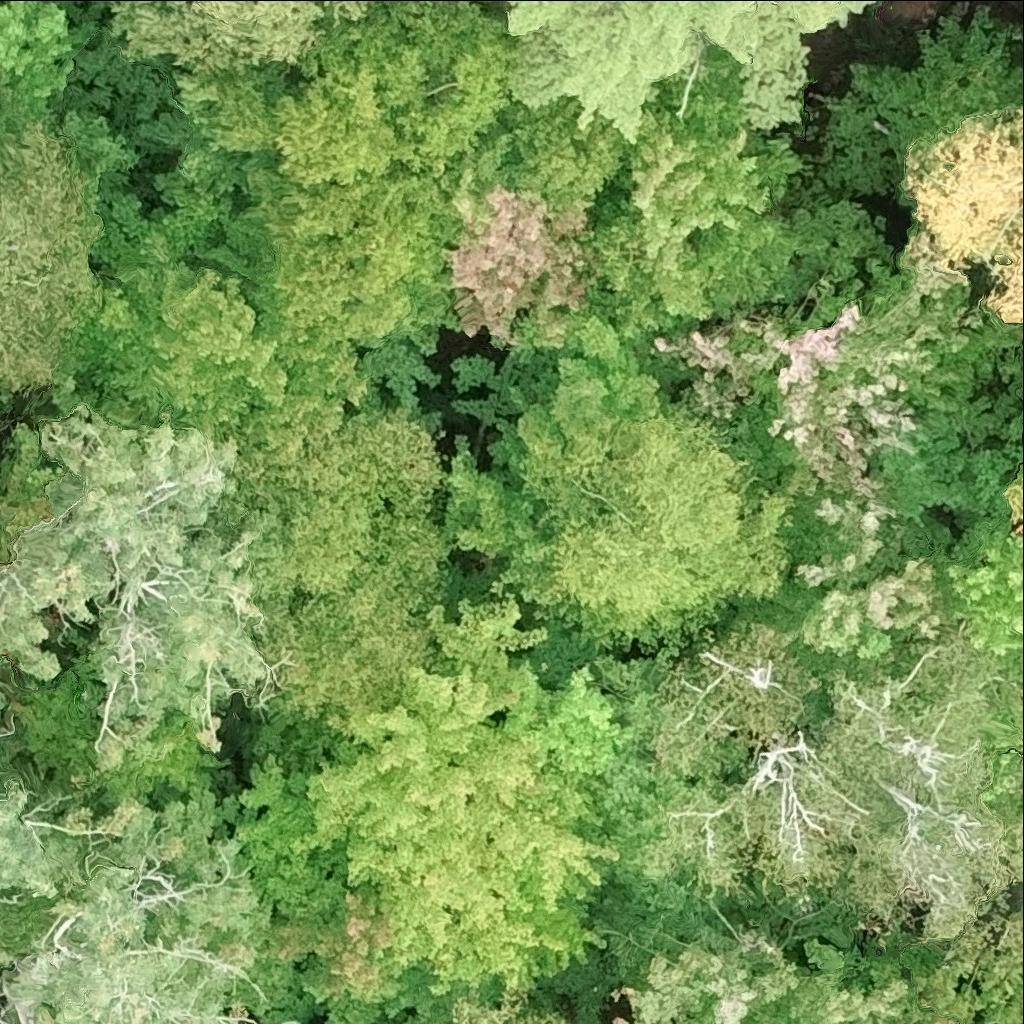crown: (178, 0, 633, 347), (304, 599, 618, 1006), (447, 303, 786, 643), (0, 408, 267, 761), (654, 257, 1016, 516), (569, 42, 880, 336), (201, 404, 460, 709), (614, 620, 858, 894), (822, 638, 1023, 935), (75, 265, 368, 450), (238, 757, 438, 1023), (0, 815, 255, 1023), (505, 0, 874, 136), (487, 671, 659, 855), (788, 471, 947, 663), (0, 125, 99, 403), (616, 936, 906, 1023), (909, 109, 1023, 328), (441, 188, 591, 348), (116, 0, 379, 71), (898, 913, 1023, 1023), (946, 526, 1023, 657), (0, 786, 53, 897), (454, 985, 568, 1023), (1007, 476, 1023, 536)
